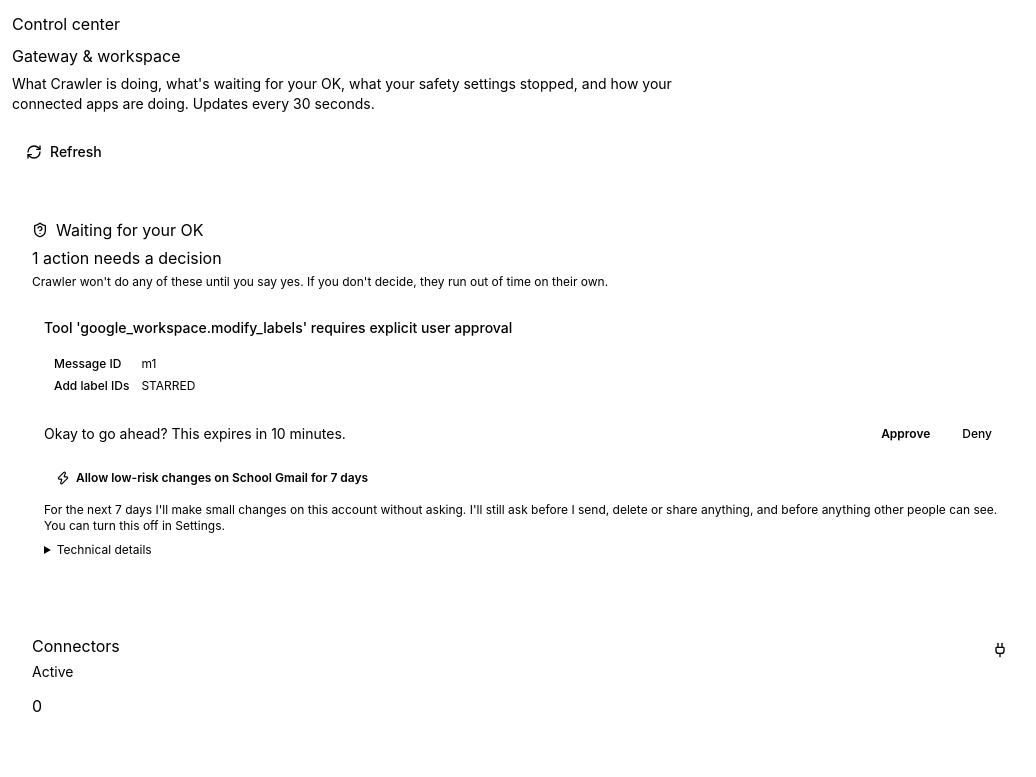
Test: Dashboard's low-risk button on an approval row › offers the row's account and, pressed, allows it and removes the row
Click the button "Allow low-risk changes on School Gmail for 7 days" at (212, 478), box [44, 460, 380, 496]
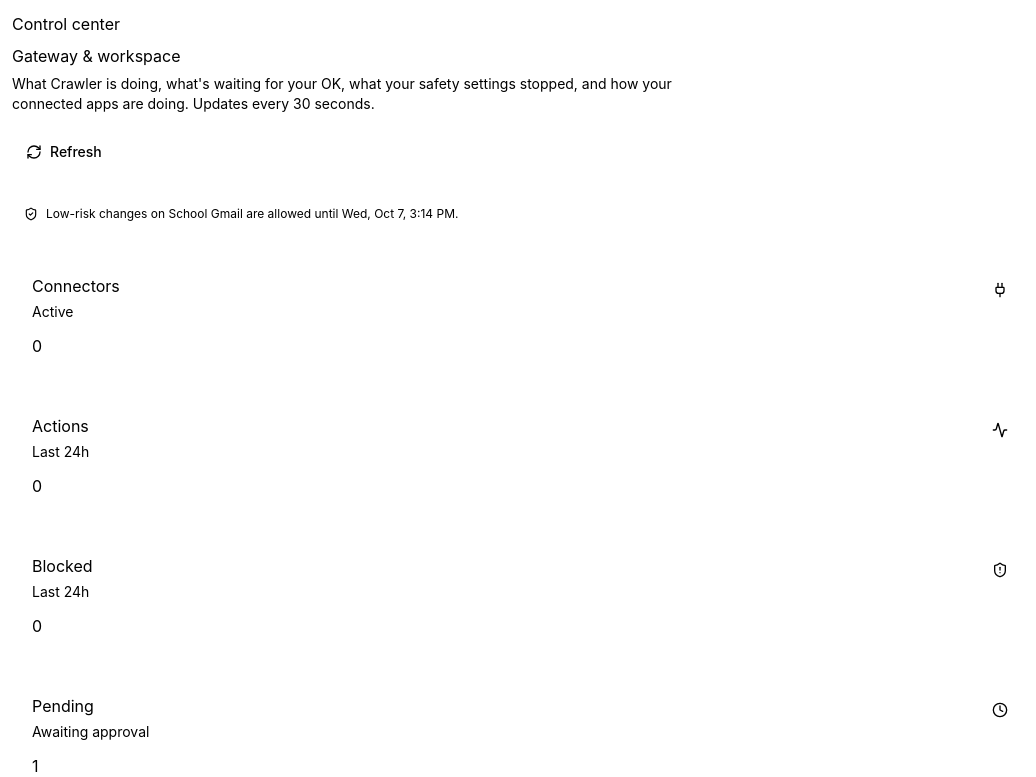
Check: the button "Allow low-risk changes on School Gmail for 7 days" is gone
